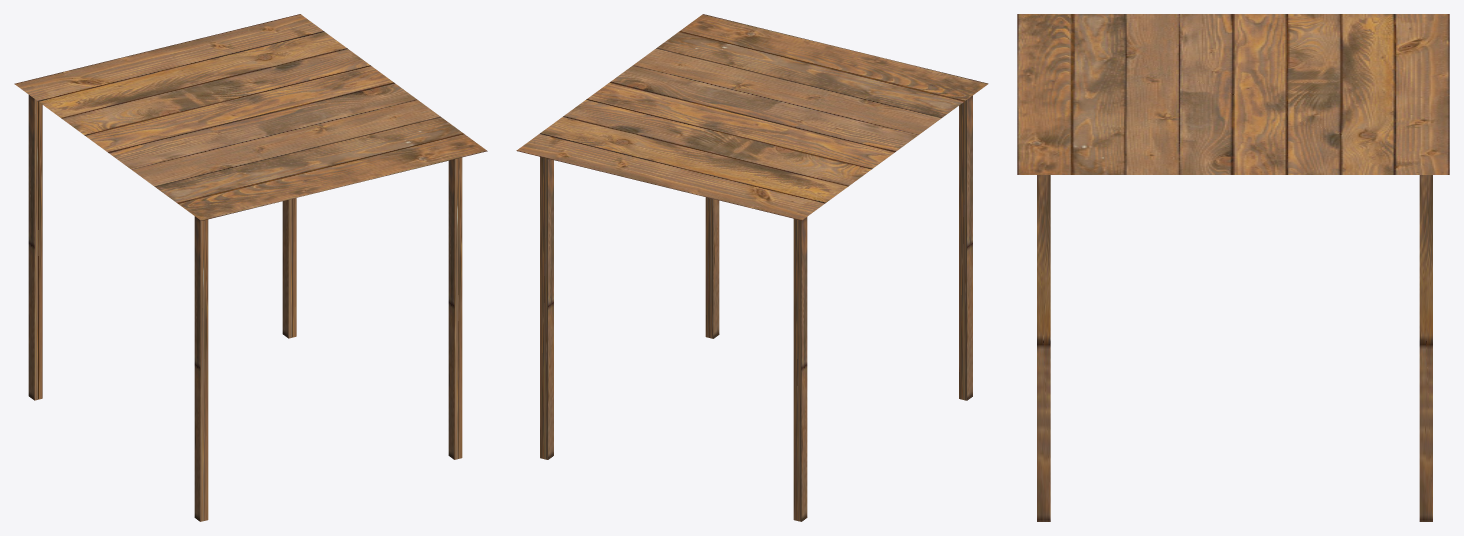
File: Roof_Mesh.fbx
The picture shows the model from 3 angles, left to right: view 1: azimuth 30°, elevation 25°; view 2: azimuth 150°, elevation 25°; view 3: azimuth 270°, elevation 25°; orthographic projection. The views are drawn at different scales.
Parts seen in each view (by area): view 1: pPlane4, woodPlank_Mesh16, woodPlank_Mesh15, woodPlank_Mesh17, woodPlank_Mesh18; view 2: pPlane4, woodPlank_Mesh15, woodPlank_Mesh18, woodPlank_Mesh16, woodPlank_Mesh17; view 3: pPlane4, woodPlank_Mesh17, woodPlank_Mesh18.
Part boxes in pixels (bbox=[...]): pPlane4: bbox=[14, 14, 487, 220]; woodPlank_Mesh16: bbox=[194, 216, 208, 521]; woodPlank_Mesh15: bbox=[28, 95, 42, 400]; woodPlank_Mesh17: bbox=[448, 157, 462, 459]; woodPlank_Mesh18: bbox=[282, 198, 296, 338]; pPlane4: bbox=[516, 14, 988, 220]; woodPlank_Mesh15: bbox=[793, 217, 807, 521]; woodPlank_Mesh18: bbox=[540, 157, 553, 459]; woodPlank_Mesh16: bbox=[959, 95, 972, 400]; woodPlank_Mesh17: bbox=[705, 197, 719, 338]; pPlane4: bbox=[1017, 14, 1449, 174]; woodPlank_Mesh17: bbox=[1037, 175, 1050, 521]; woodPlank_Mesh18: bbox=[1419, 175, 1432, 521].
Bounding box in the file's own units: 53.27 × 54.92 × 60.37.
Materials: 1 (1 with a texture image).
